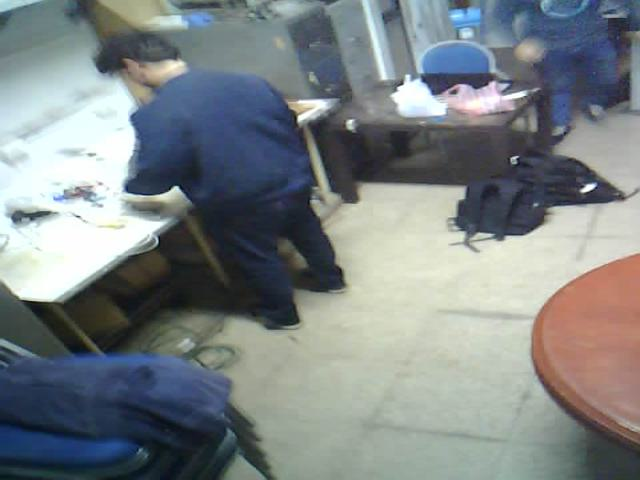person: (79, 20, 368, 337), (486, 0, 635, 157)
